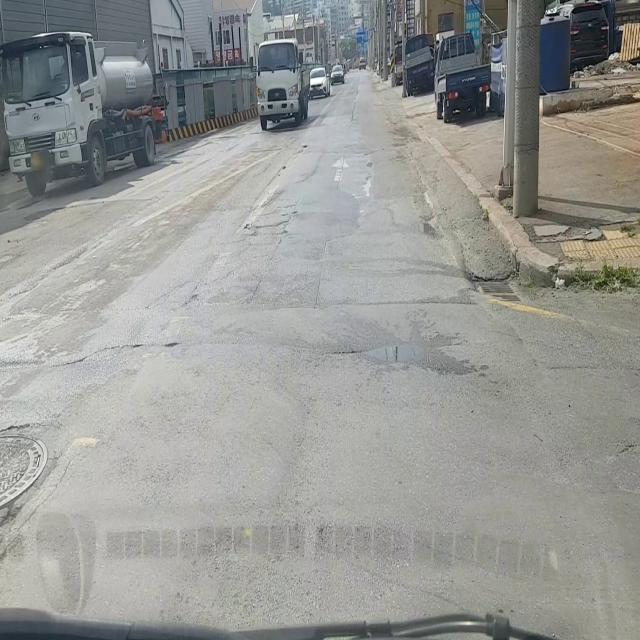Pothole: (0, 418, 52, 528)
